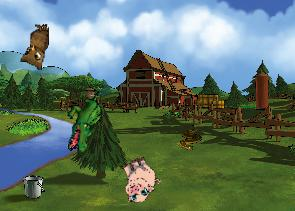crocodile: (65, 91, 103, 152)
owl: (19, 22, 49, 70)
pig: (112, 152, 164, 206)
